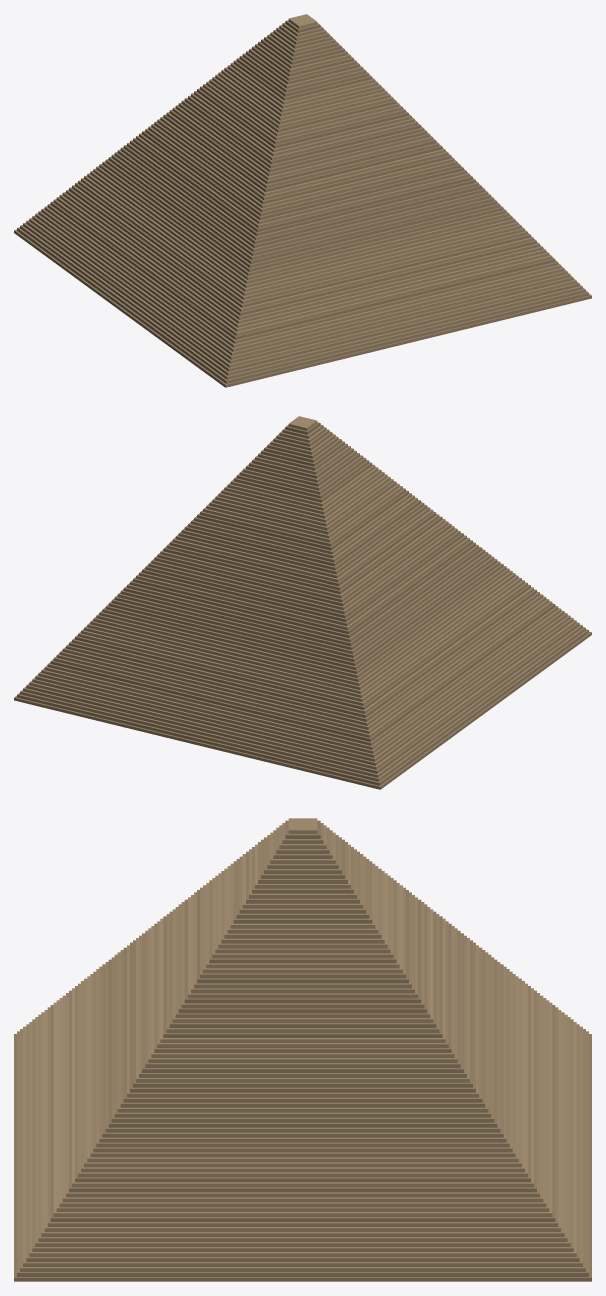
Rendered from khafre-pyramid-surviving-v1.glb.
3 views of the same model, one above another, from view 1: azimuth 30°, elevation 25°; view 2: azimuth 150°, elevation 25°; view 3: azimuth 270°, elevation 25° (orthographic). The views are drawn at different scales.
Parts seen in each view (by area): view 1: khafre-pyramid-surviving-v1; view 2: khafre-pyramid-surviving-v1; view 3: khafre-pyramid-surviving-v1.
Boxes of the visible parts, <box> form: khafre-pyramid-surviving-v1: <box>14,14,591,387</box>; khafre-pyramid-surviving-v1: <box>14,416,591,789</box>; khafre-pyramid-surviving-v1: <box>14,818,591,1281</box>.
Size of the model in its own units: 213 by 136 by 213.
